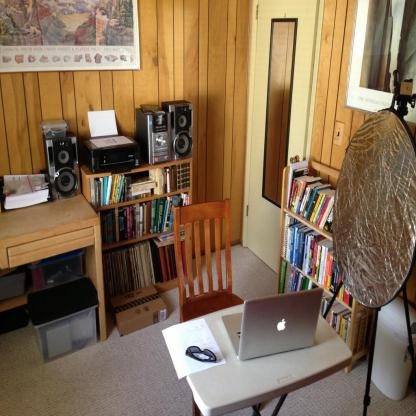board: (220, 285, 324, 362)
